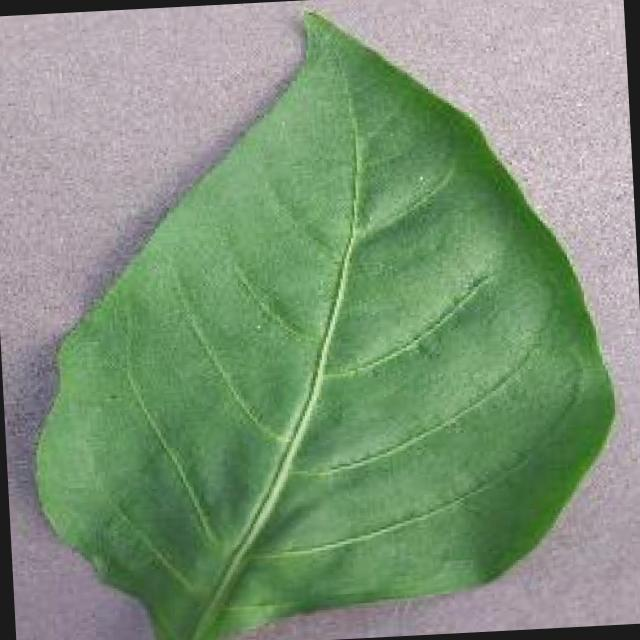Leaf: (3, 6, 634, 626)
